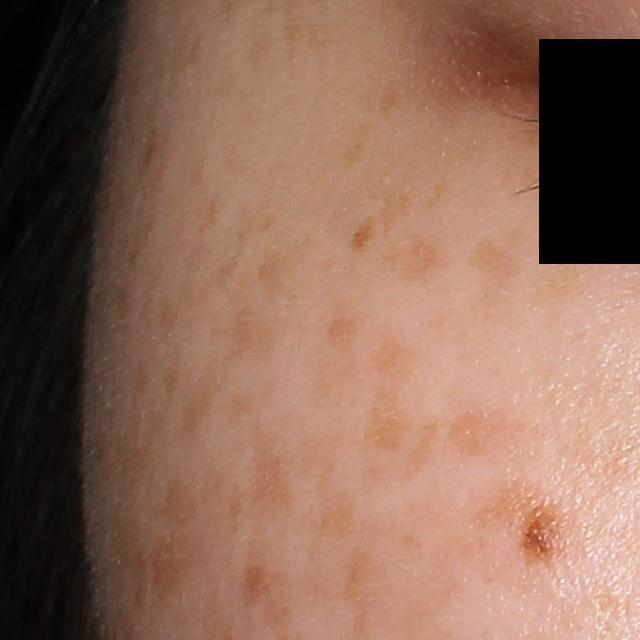melasma: (223, 397, 365, 539), (176, 291, 282, 441), (358, 326, 425, 457), (115, 530, 220, 607), (444, 399, 523, 454), (157, 471, 231, 524), (394, 407, 442, 487), (471, 477, 533, 536), (186, 190, 229, 269), (376, 237, 451, 279), (467, 240, 529, 282), (255, 241, 307, 288), (536, 261, 584, 301), (339, 121, 375, 170), (344, 217, 380, 255), (329, 312, 359, 354), (374, 82, 405, 114), (420, 176, 445, 212)
nevus: (511, 506, 564, 565)
